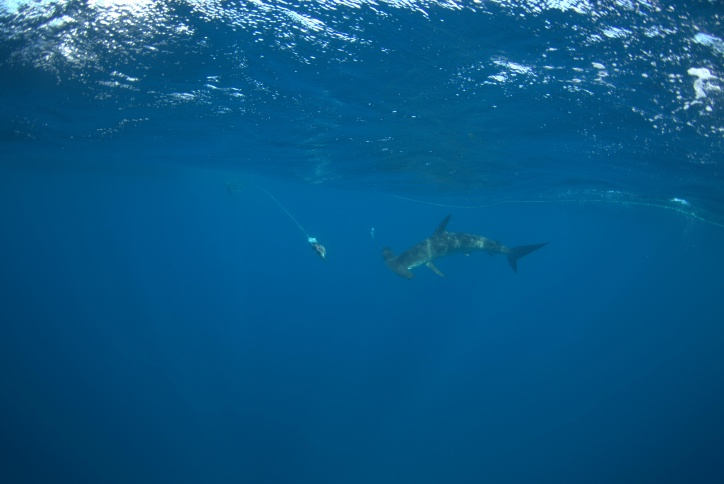Hammer: (346, 199, 567, 310)
